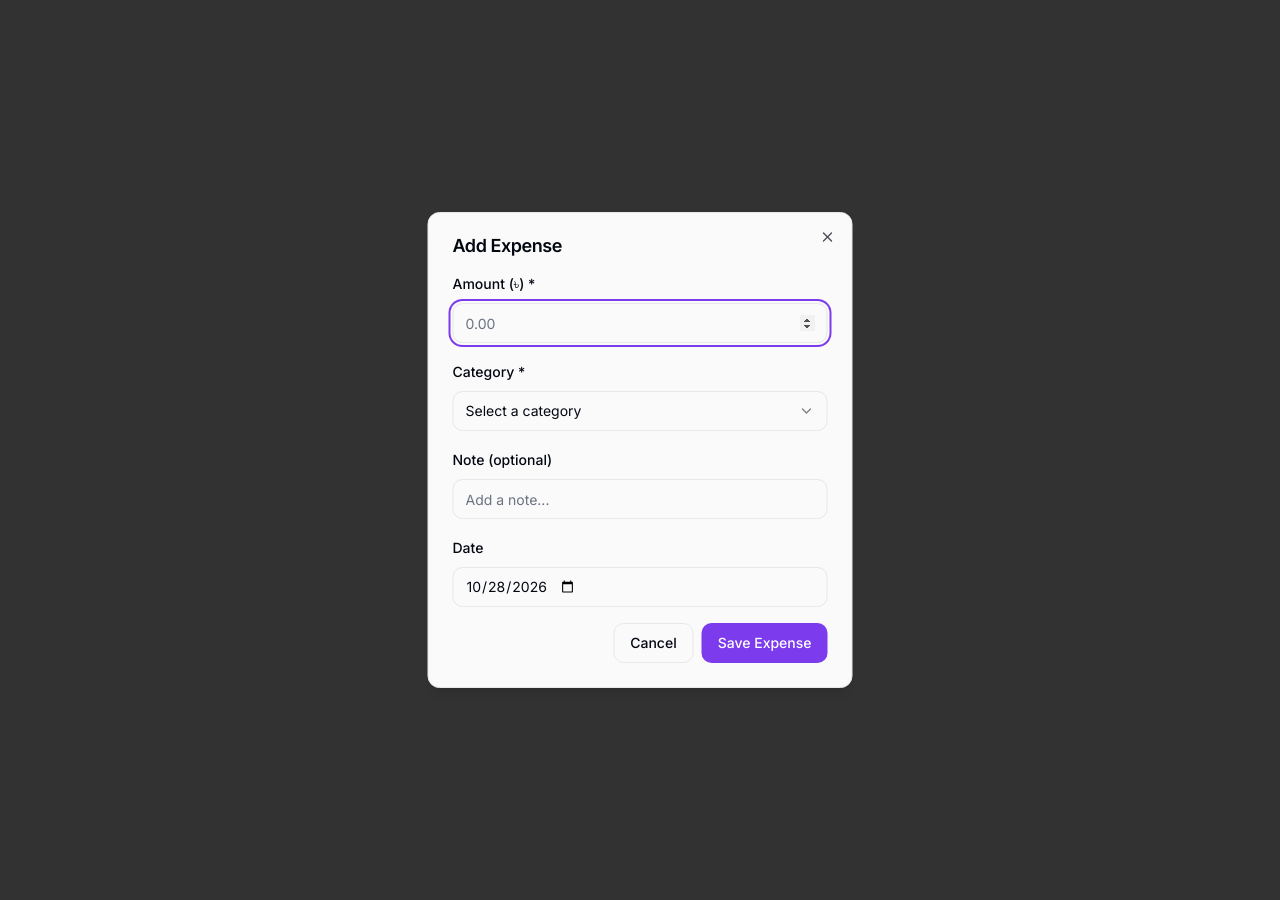
ExpenseFormDialog › shows a missing category next to the field and keeps the amount
Type "80" into the number field labelled "Amount (৳) *" at {"x": 640, "y": 323}, box [452,303,828,343]
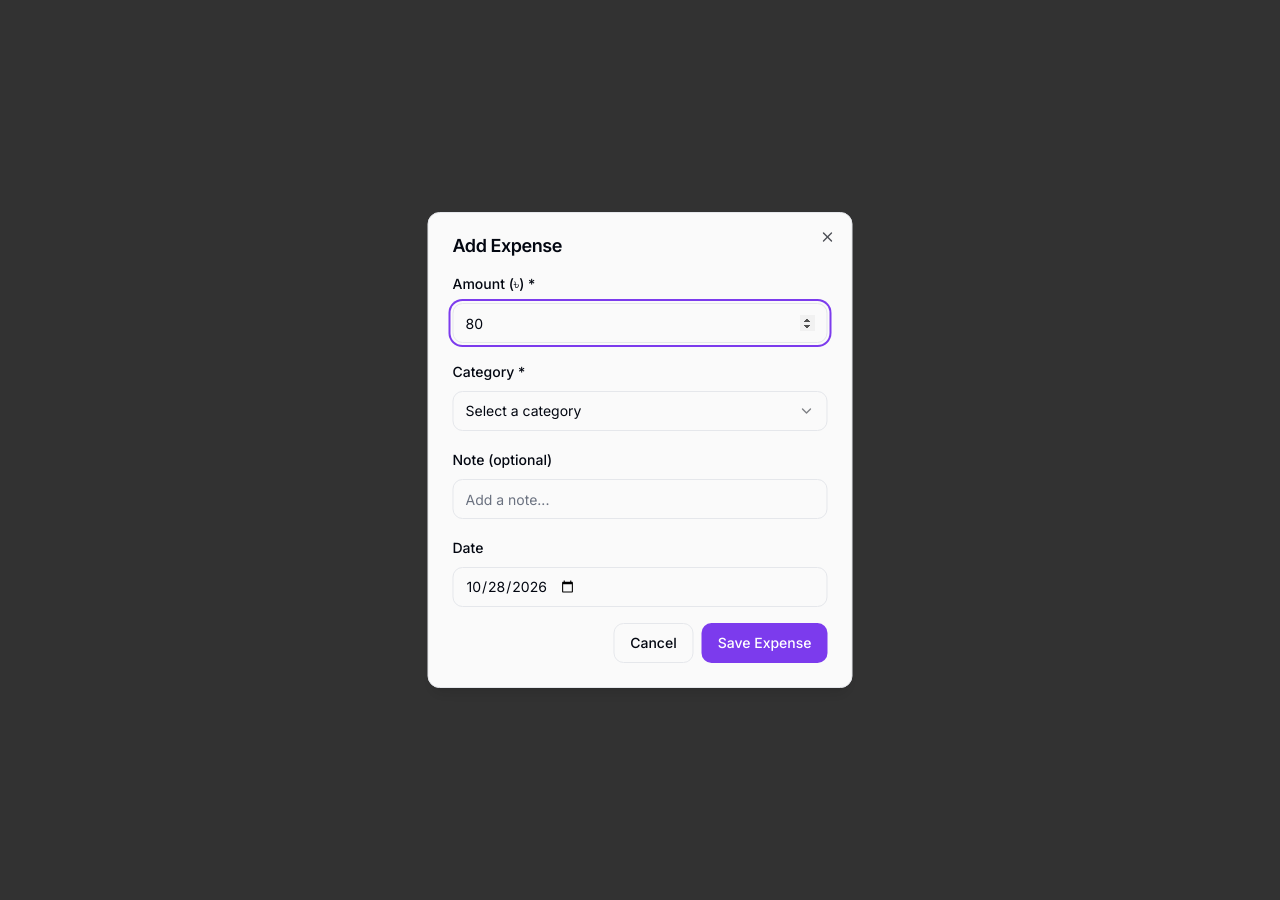
Click the button "Save Expense" at {"x": 765, "y": 643}, box [702,623,828,663]
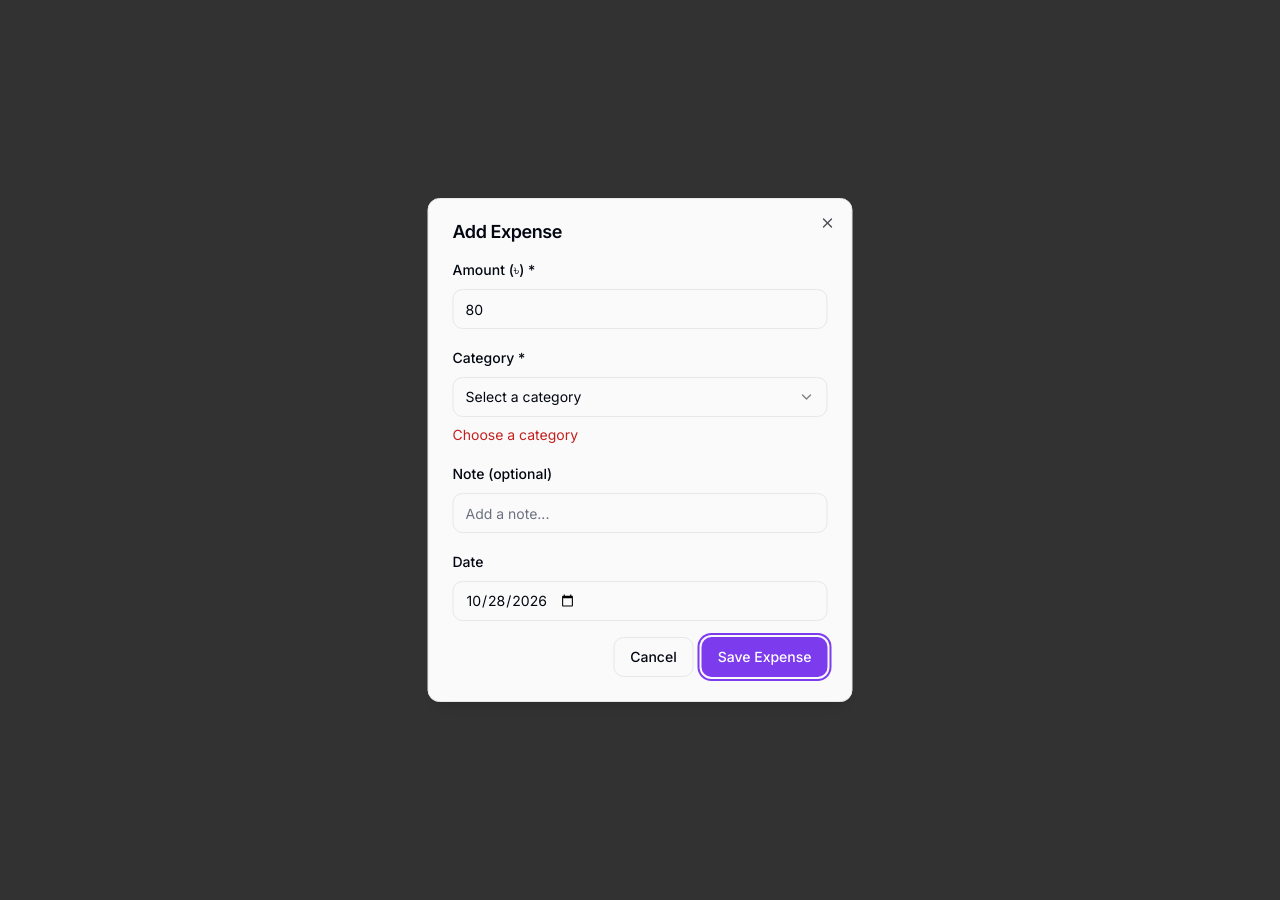
Now the text "Choose a category" is shown, box [452,426,578,443]
